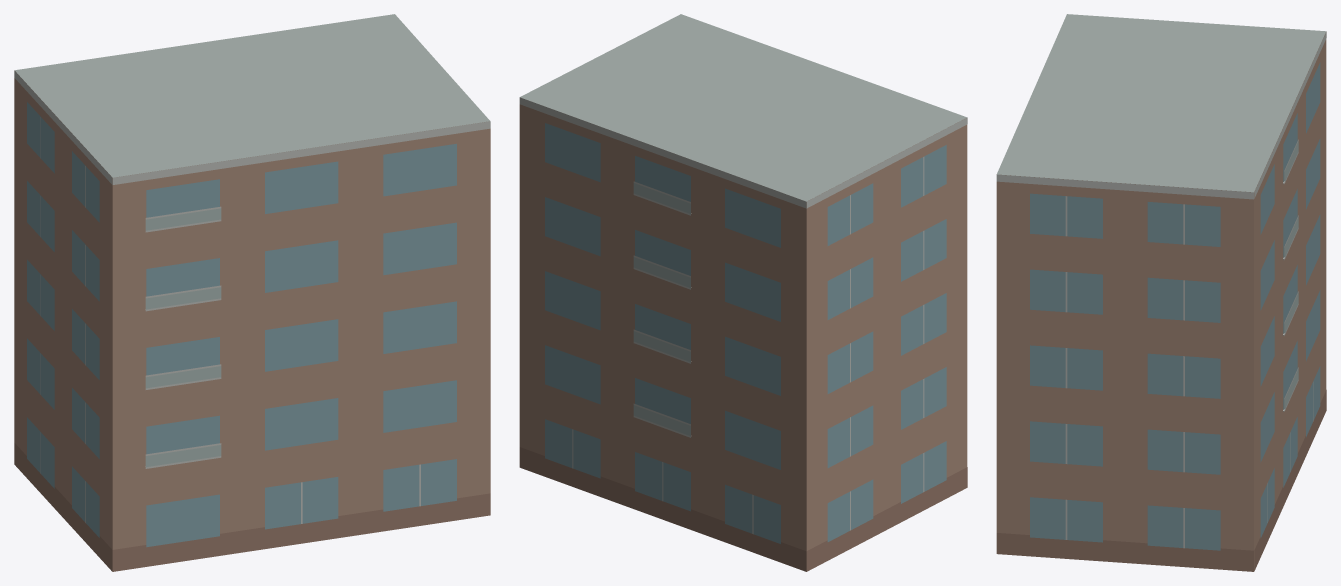
Rendered from survey-upis-32669493.glb.
The picture shows the model from 3 angles, left to right: view 1: azimuth 30°, elevation 25°; view 2: azimuth 150°, elevation 25°; view 3: azimuth 270°, elevation 25°; orthographic projection. The views are drawn at different scales.
Visible parts, largest first — view 1: survey-upis-32669493.tmp; view 2: survey-upis-32669493.tmp; view 3: survey-upis-32669493.tmp.
Part boxes in pixels (x1,y1,x2,y2): survey-upis-32669493.tmp: (14,14,490,571); survey-upis-32669493.tmp: (519,14,967,571); survey-upis-32669493.tmp: (996,14,1326,571).
Size of the model in its own units: 13.02 by 12.91 by 10.18.
